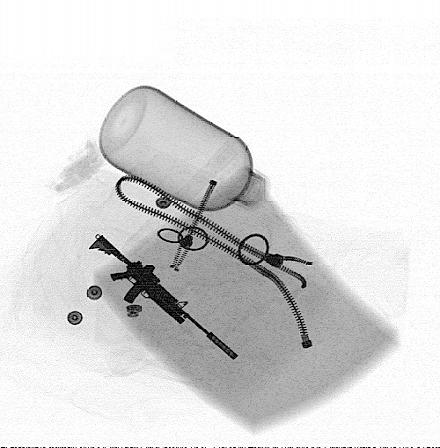Gun: (87, 233, 240, 360)
